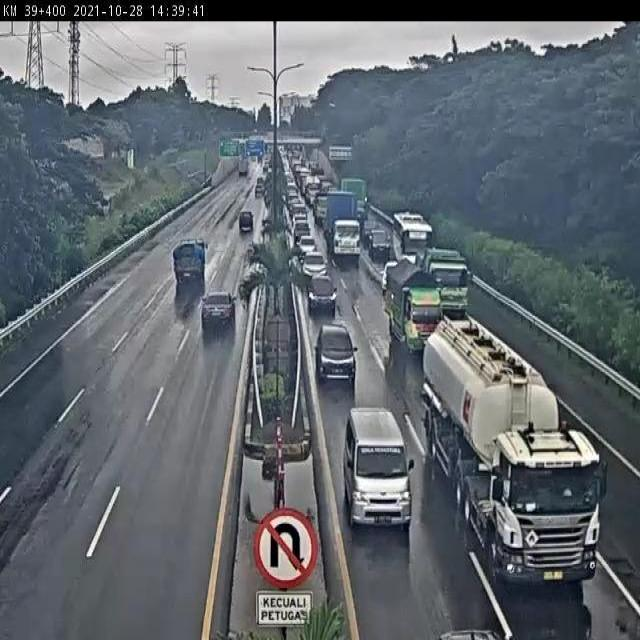big bus: (389, 212, 429, 265)
big truck: (423, 316, 603, 587), (325, 186, 361, 258)
car: (344, 408, 410, 531), (314, 322, 359, 378), (201, 290, 235, 330), (305, 276, 336, 311), (302, 248, 327, 277), (367, 228, 390, 257), (236, 209, 257, 236)
mid truck: (419, 246, 472, 306)
small truck: (173, 237, 211, 287)
truck-m-: (381, 260, 443, 347)
